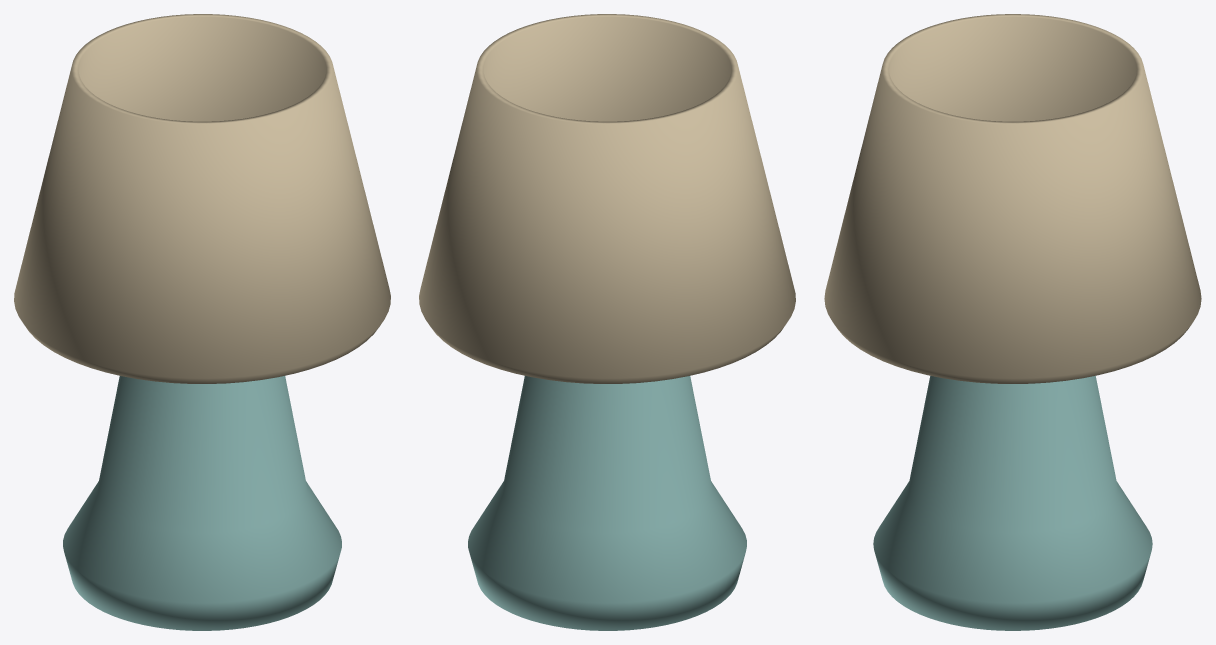
The model's file is lamp-1.glb.
3 views of the same model, side by side, from view 1: azimuth 30°, elevation 25°; view 2: azimuth 150°, elevation 25°; view 3: azimuth 270°, elevation 25° (orthographic).
Parts seen in each view (by area): view 1: Linen shade, Ceramic base; view 2: Linen shade, Ceramic base; view 3: Linen shade, Ceramic base.
Boxes of the visible parts, x1,y1,x2,y2 form: Linen shade: [14, 14, 390, 383]; Ceramic base: [63, 376, 341, 630]; Linen shade: [419, 14, 795, 383]; Ceramic base: [468, 376, 746, 630]; Linen shade: [824, 14, 1201, 383]; Ceramic base: [873, 376, 1152, 630].
Bounding box in the file's own units: 0.216 × 0.32 × 0.216.
